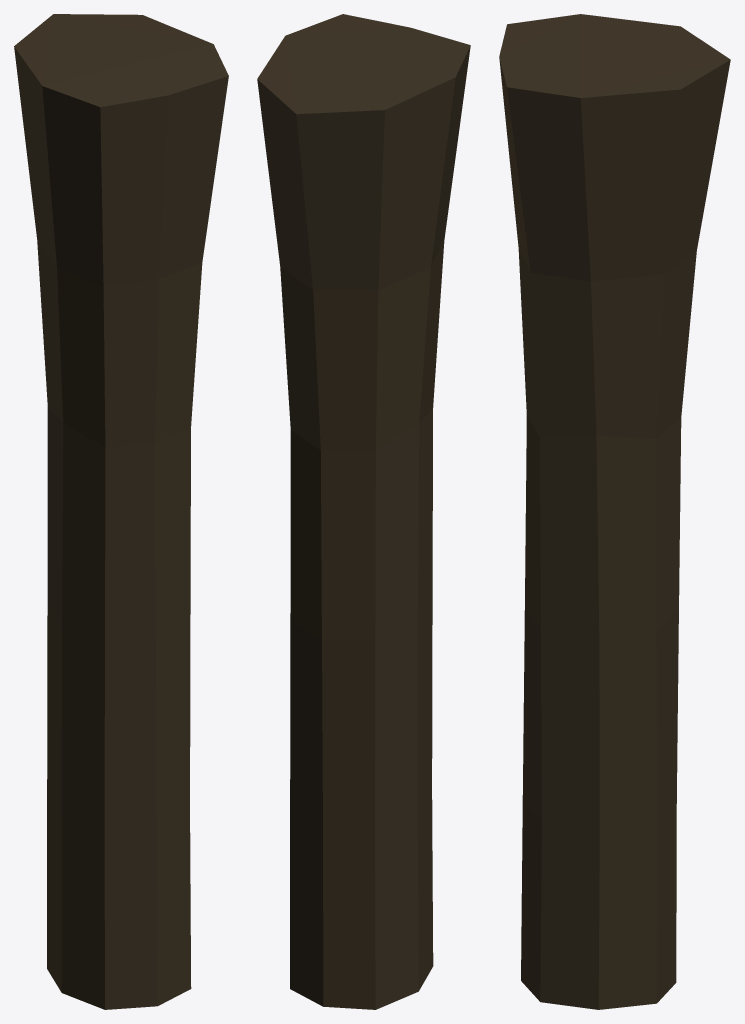
Rendered from EA03_Wooden_Pin_01c.glb.
3 views of the same model, side by side, from view 1: azimuth 30°, elevation 25°; view 2: azimuth 150°, elevation 25°; view 3: azimuth 270°, elevation 25° (orthographic).
Visible parts, largest first — view 1: EA03_Wooden_Pin_01c; view 2: EA03_Wooden_Pin_01c; view 3: EA03_Wooden_Pin_01c.
Part boxes in pixels (bbox=[...]): EA03_Wooden_Pin_01c: bbox=[14, 14, 228, 1009]; EA03_Wooden_Pin_01c: bbox=[257, 14, 470, 1009]; EA03_Wooden_Pin_01c: bbox=[499, 14, 730, 1009].
Bounding box in the file's own units: 0.3419 × 1.76 × 0.3978.
Materials: 1 (1 with a texture image).
